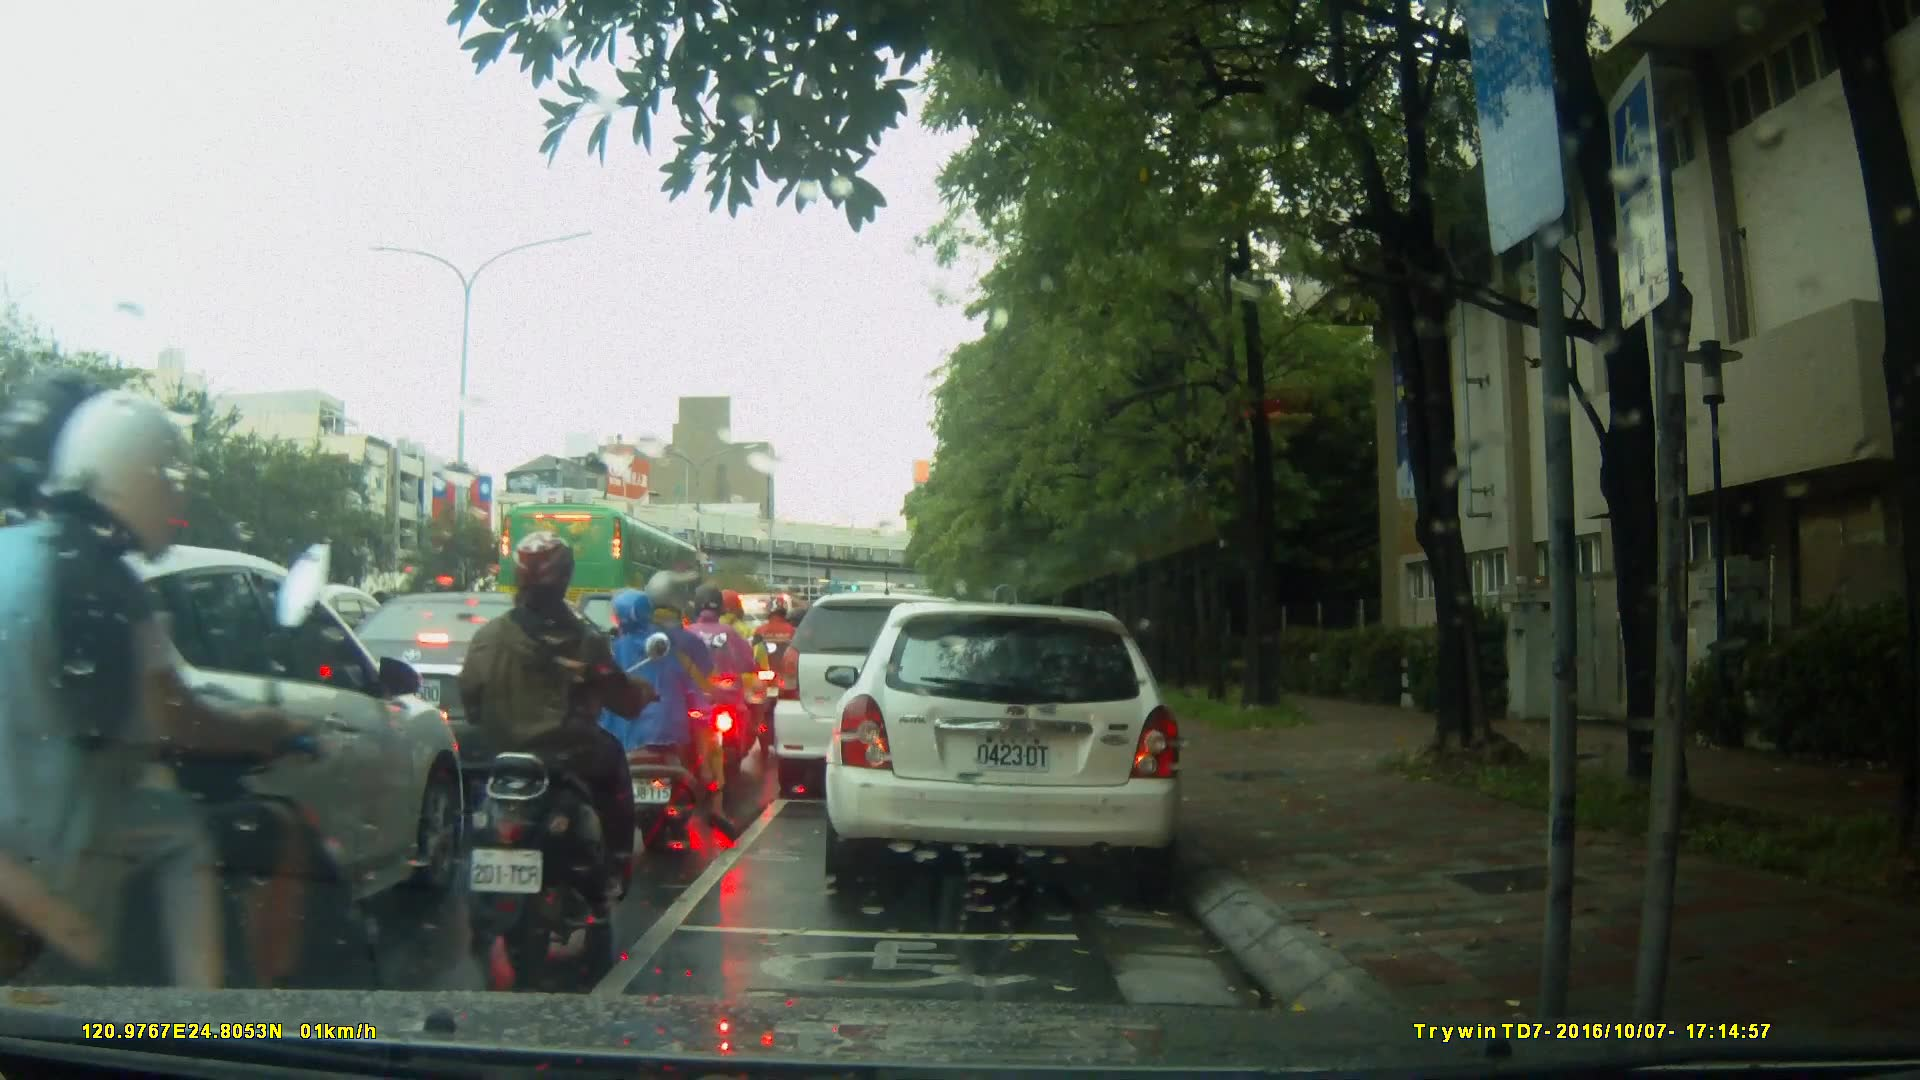rider: (10, 393, 403, 1067), (443, 525, 658, 969), (605, 574, 718, 837), (676, 588, 747, 782), (712, 591, 783, 772), (754, 594, 802, 736)
vehicle: (4, 535, 467, 988), (831, 592, 1196, 897), (312, 589, 629, 776), (770, 590, 999, 804), (501, 503, 709, 636)
